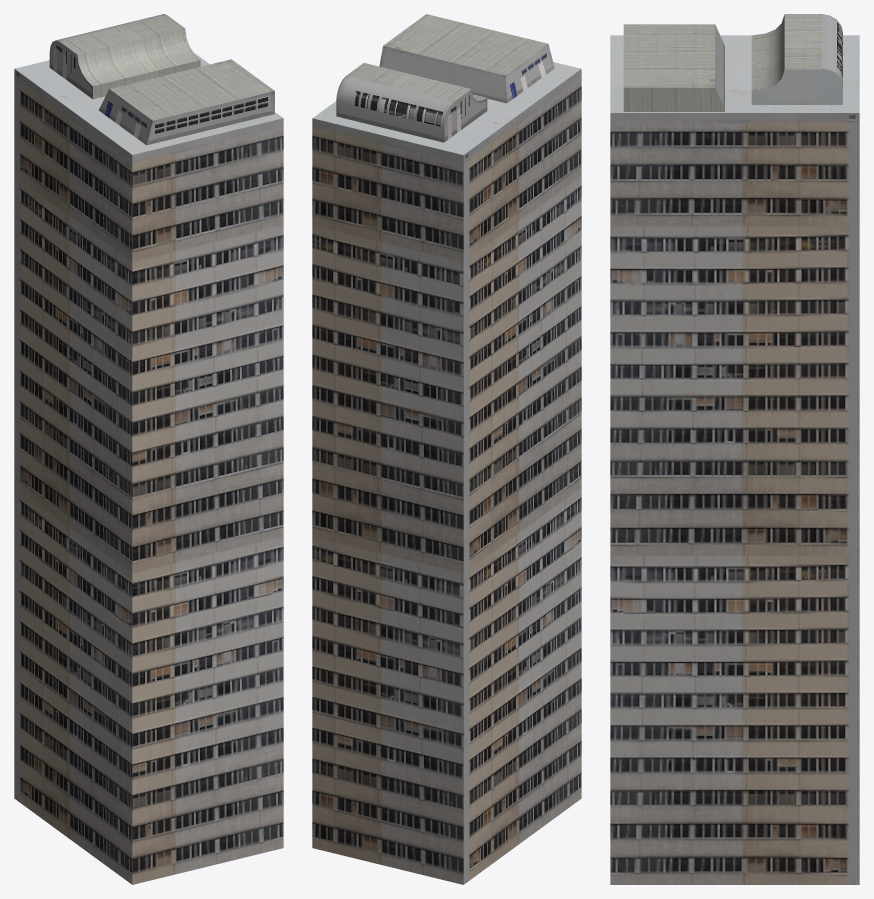
Rendered from MB_Skyscraper_02.fbx.
3 views of the same model, side by side, from view 1: azimuth 30°, elevation 25°; view 2: azimuth 150°, elevation 25°; view 3: azimuth 270°, elevation 25° (orthographic). The views are drawn at different scales.
Parts seen in each view (by area): view 1: MB_Skyscraper_02; view 2: MB_Skyscraper_02; view 3: MB_Skyscraper_02.
Boxes of the visible parts, <box> form: MB_Skyscraper_02: <box>14,14,283,884</box>; MB_Skyscraper_02: <box>312,14,581,884</box>; MB_Skyscraper_02: <box>610,14,859,884</box>.
Size of the model in its own units: 805 by 3886 by 1089.
